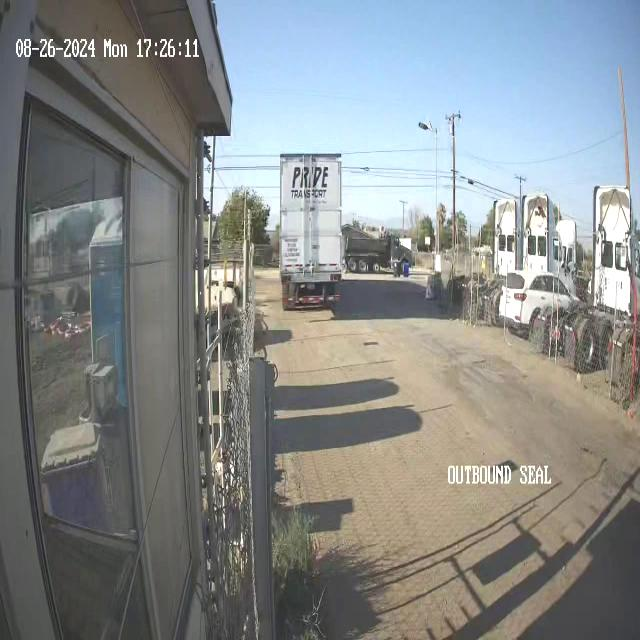CONTAINER: (278, 151, 344, 286)
